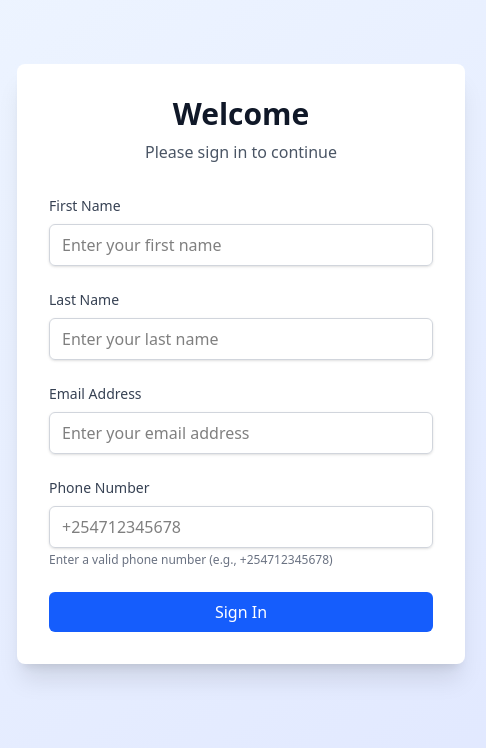
Test: LoginPage Component › shows validation errors for empty fields
The width and height of the screenshot is (486, 748).
# Try to submit form without filling any fields
Click the button "Sign In": [241, 612] box [49,592,433,632]
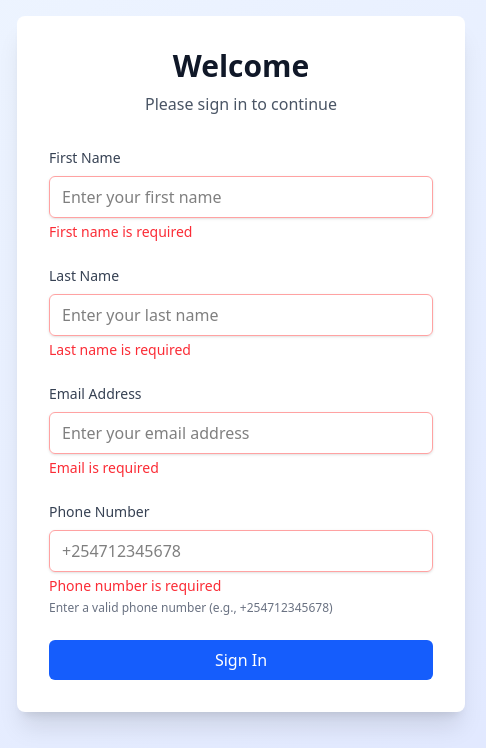
Result: the text "First name is required" is shown at [49,222,192,241]
Result: the text "Last name is required" is shown at [49,340,191,359]
Result: the text "Email is required" is shown at [49,458,159,477]
